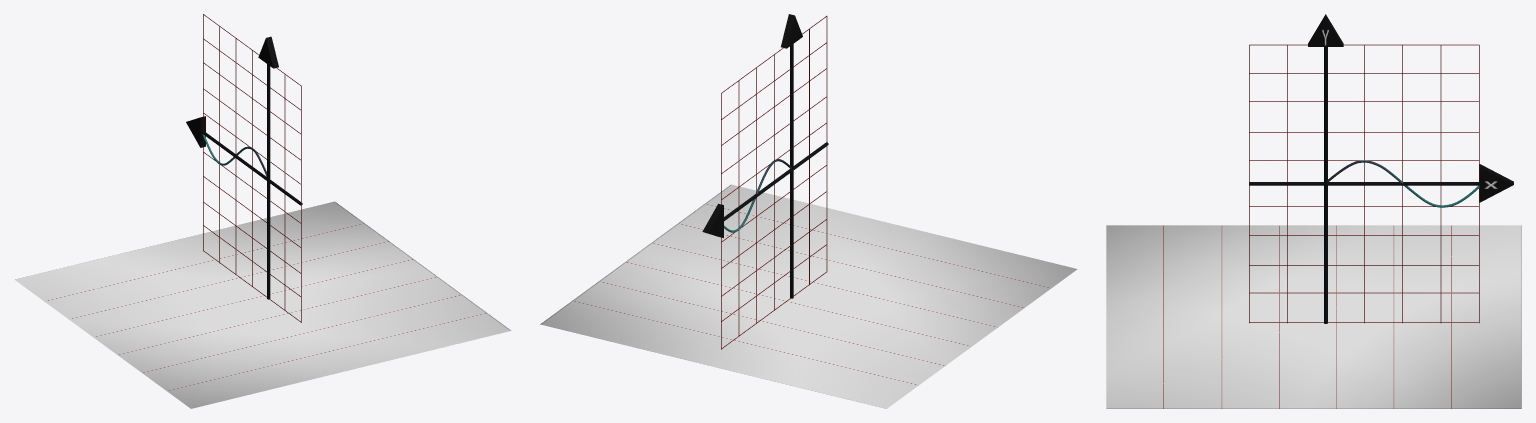
The model's file is y=senx+k positivo.fbx.
3 views of the same model, side by side, from view 1: azimuth 30°, elevation 25°; view 2: azimuth 150°, elevation 25°; view 3: azimuth 270°, elevation 25° (orthographic). The views are drawn at different scales.
Parts seen in each view (by area): view 1: senoidal:plane:pPlane1, senoidal:pCylinder37, senoidal:pCylinder31, senoidal:pCylinder25, senoidal:pCylinder36; view 2: senoidal:plane:pPlane1, senoidal:pCylinder37, senoidal:pCylinder36, senoidal:pCylinder33, senoidal:pCylinder23; view 3: senoidal:plane:pPlane1, senoidal:pCylinder37, senoidal:pCylinder36, senoidal:nueva_flecha_x:polySurface1, senoidal:Nueva_flecha_y:polySurface1, senoidal:pCylinder33, senoidal:senoidal1:Mesh, senoidal:pCylinder16, senoidal:pCylinder1.
Boxes of the visible parts, x1,y1,x2,y2 form: senoidal:plane:pPlane1: (15, 201, 510, 408); senoidal:pCylinder37: (267, 64, 270, 299); senoidal:pCylinder31: (235, 38, 236, 274); senoidal:pCylinder25: (284, 74, 285, 310); senoidal:pCylinder36: (202, 131, 302, 205); senoidal:plane:pPlane1: (540, 184, 1077, 408); senoidal:pCylinder37: (790, 44, 793, 298); senoidal:pCylinder36: (724, 142, 828, 220); senoidal:pCylinder33: (738, 81, 739, 336); senoidal:pCylinder23: (826, 16, 827, 271); senoidal:plane:pPlane1: (1106, 225, 1521, 408); senoidal:pCylinder37: (1324, 47, 1327, 323); senoidal:pCylinder36: (1249, 182, 1479, 185); senoidal:nueva_flecha_x:polySurface1: (1479, 164, 1513, 202); senoidal:Nueva_flecha_y:polySurface1: (1308, 14, 1343, 46); senoidal:pCylinder33: (1440, 45, 1441, 322); senoidal:senoidal1:Mesh: (1327, 160, 1479, 207); senoidal:pCylinder16: (1249, 292, 1478, 293); senoidal:pCylinder1: (1249, 44, 1478, 45).
Bounding box in the file's own units: 56.75 × 44.29 × 54.19.
